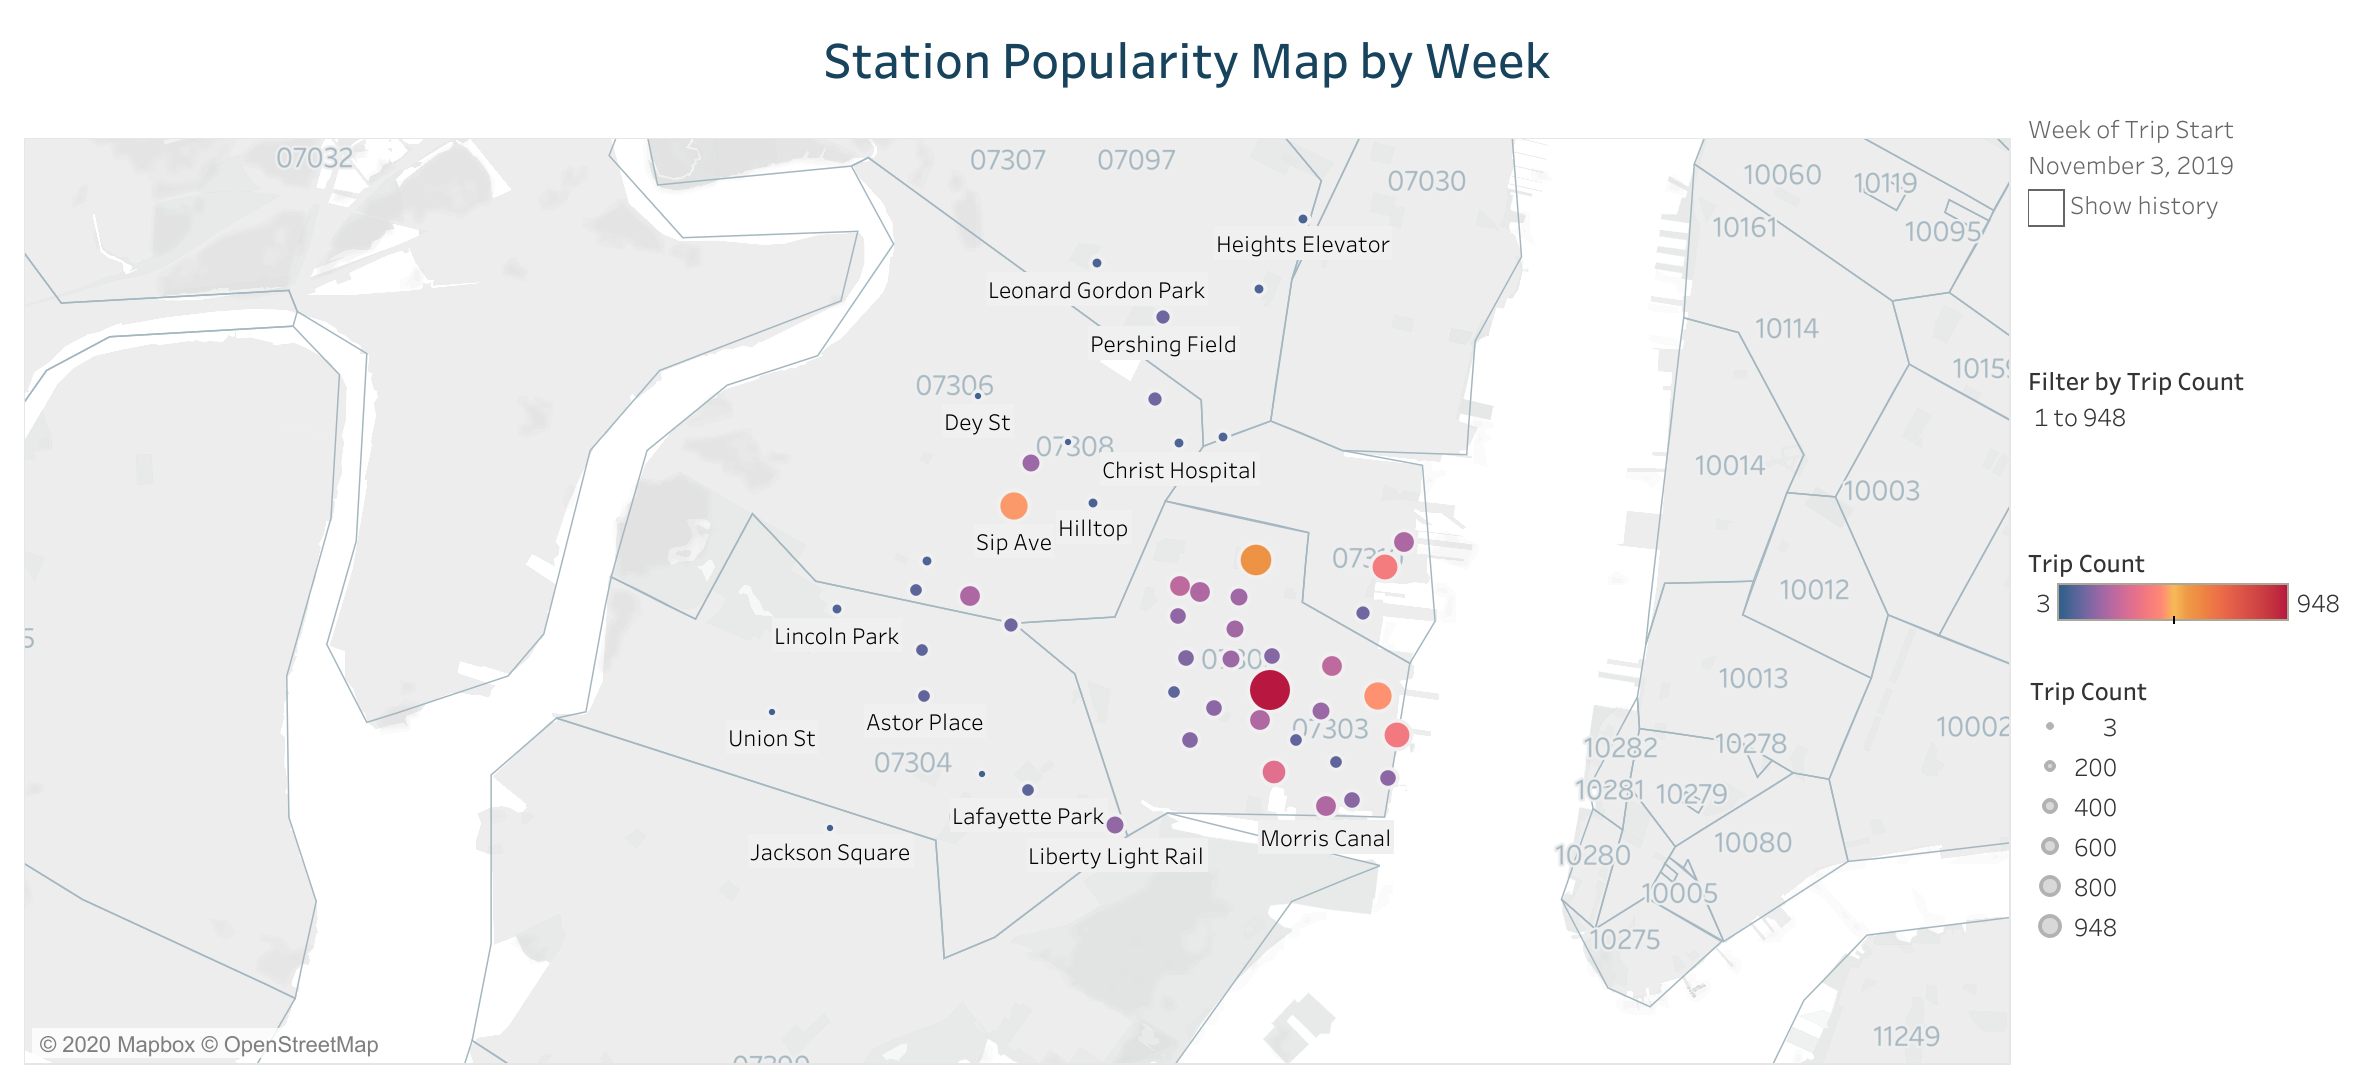

What the dashboard file says about the page in this screenshot:
{"tool":"tableau","page":{"name":"Station Popularity Map by Week","canvas":[1000,1000],"units":"permille","ordinal":3},"visuals":[{"type":"title","box":[8.1,12.8,983.8,65.6]},{"type":"worksheet","title":"Advanced Map (2)","mark":"Automatic","rows":["start station latitude"],"cols":["start station longitude"],"box":[8.1,78.4,796.2,908.8]},{"type":"currpage","title":"Advanced Map (2)","box":[804.3,78.4,187.6,198.5]},{"type":"filter","title":"Advanced Map (2)","param":"[federated.0bl1ixe19uang21496f3y0pw2axb].[sum:Number of Records:qk]","box":[804.3,276.9,187.6,125.4]},{"type":"legend","title":"Advanced Map (2)","param":"[federated.0bl1ixe19uang21496f3y0pw2axb].[sum:Number of Records:qk]","box":[804.3,402.2,187.6,129.8]},{"type":"legend","title":"Advanced Map (2)","param":"[federated.0bl1ixe19uang21496f3y0pw2axb].[sum:Number of Records:qk]","box":[804.3,532,187.6,455.2]}]}

Visuals, with their boxes on the dashboard's canvas, which has no fixed pixel size, in thousandths of its width and height (x1, y1, x2, y2). These are canvas units, not pixel positions in the 2372x1088 screenshot, which may show the page scaled, cropped or inside an application window:
title: {"x1": 8, "y1": 13, "x2": 992, "y2": 78}
"Advanced Map (2)" worksheet: {"x1": 8, "y1": 78, "x2": 804, "y2": 987}
"Advanced Map (2)" currpage: {"x1": 804, "y1": 78, "x2": 992, "y2": 277}
"Advanced Map (2)" filter: {"x1": 804, "y1": 277, "x2": 992, "y2": 402}
"Advanced Map (2)" legend: {"x1": 804, "y1": 402, "x2": 992, "y2": 532}
"Advanced Map (2)" legend: {"x1": 804, "y1": 532, "x2": 992, "y2": 987}
